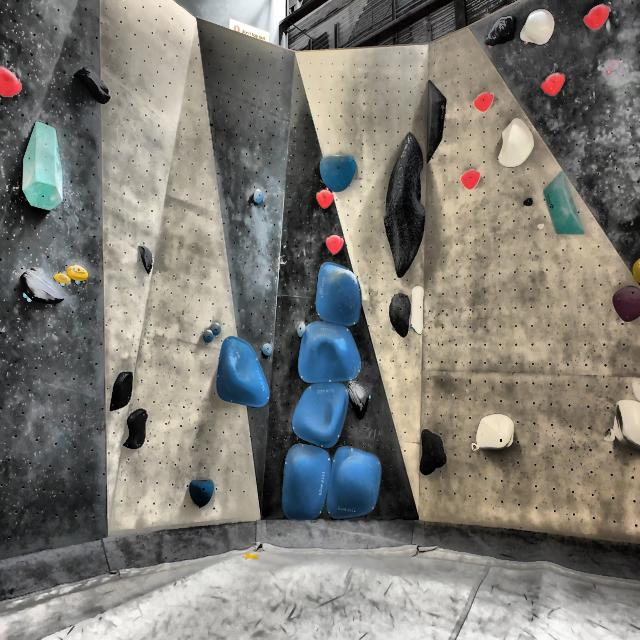Hold: (382, 134, 424, 282), (216, 334, 269, 410), (330, 446, 385, 518), (300, 324, 364, 384), (290, 380, 346, 448), (280, 442, 328, 518), (313, 262, 364, 326), (542, 166, 587, 235), (424, 76, 445, 168), (500, 119, 534, 171), (21, 267, 66, 306), (609, 397, 640, 453), (475, 411, 515, 454), (520, 5, 556, 46), (418, 427, 447, 477), (75, 65, 112, 102), (318, 154, 354, 191), (610, 280, 640, 322), (121, 409, 150, 451), (109, 367, 135, 413), (483, 15, 518, 47), (386, 291, 409, 338), (410, 281, 428, 337), (348, 380, 372, 419), (190, 476, 216, 509), (583, 3, 609, 29), (542, 72, 567, 98), (468, 92, 496, 115), (0, 69, 22, 96), (138, 243, 154, 273), (325, 232, 345, 254), (68, 262, 92, 279), (316, 187, 334, 209), (315, 190, 334, 210), (462, 171, 481, 190), (628, 255, 640, 284), (605, 57, 619, 76), (628, 378, 640, 400), (252, 185, 264, 206), (53, 271, 71, 284), (209, 319, 222, 336), (197, 332, 215, 344), (522, 193, 536, 208), (261, 345, 276, 358), (297, 322, 304, 334)
